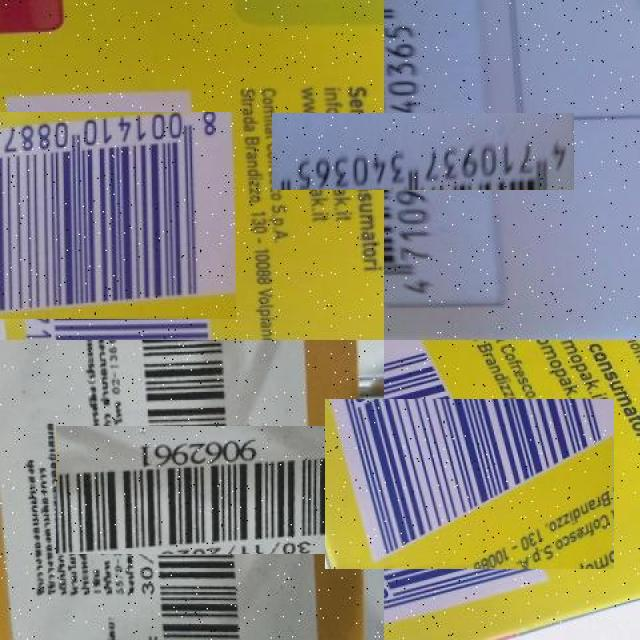Barcode: (355, 369, 584, 600), (0, 102, 226, 330), (99, 383, 312, 597), (327, 57, 518, 246)
